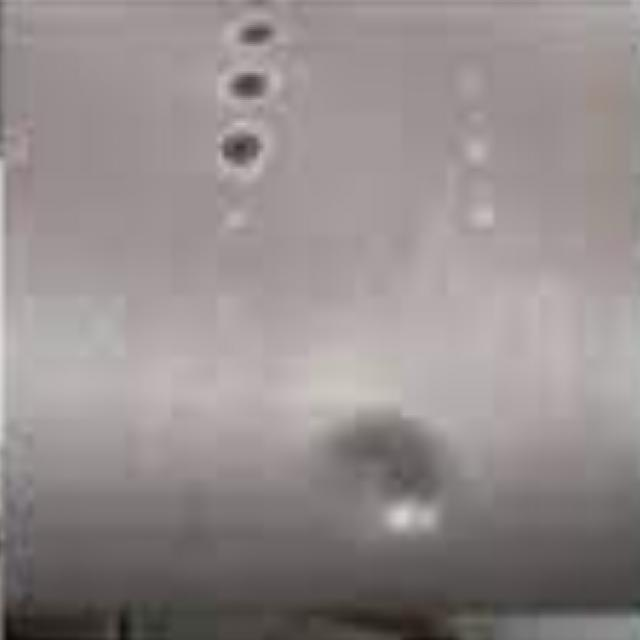dents: (318, 362, 461, 548)
